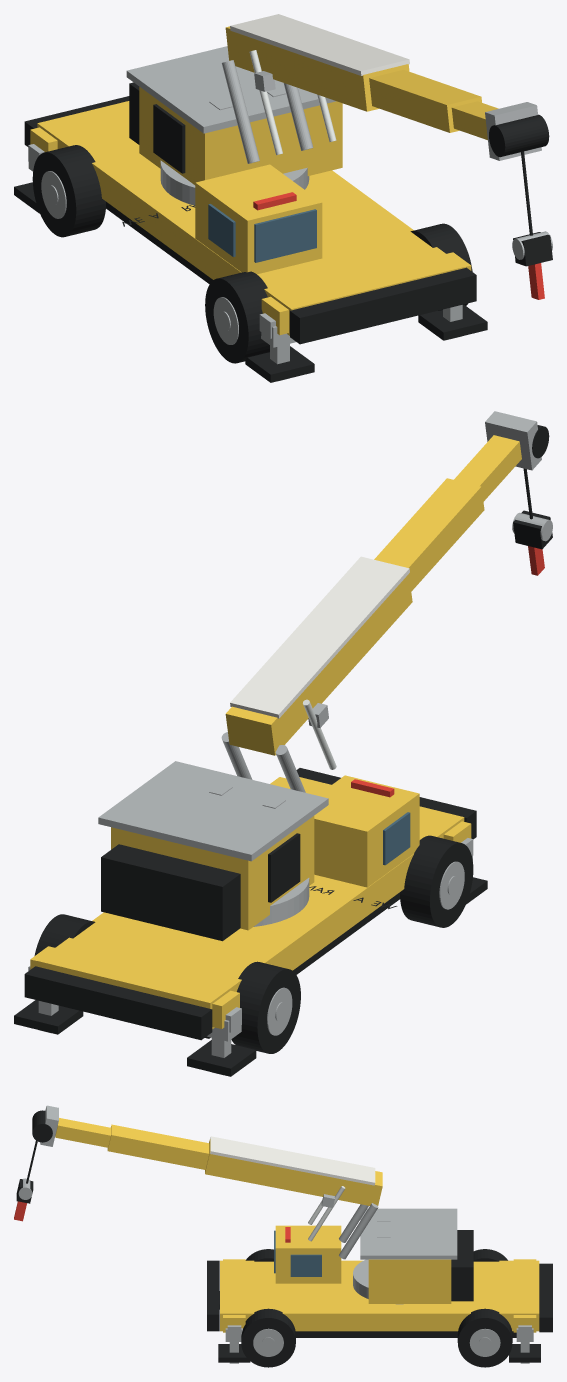
File: webar_crane_generated.glb
3 views of the same model, one above another, from view 1: azimuth 30°, elevation 25°; view 2: azimuth 150°, elevation 25°; view 3: azimuth 270°, elevation 25° (orthographic). The views are drawn at different scales.
Parts seen in each view (by area): view 1: Chassis_MainFrame, UpperHouse_Main, DriverCab_Body, MachineryDeck_Railing, Front_Bumper, BoomBase_Section, BoomBase_TopStripe, RearWheel_RL_Tire, Boom_SecondStage, FrontWheel_FL_Tire, DriverCab_Windshield, Boom_TipSheave (+20 smaller); view 2: Chassis_MainFrame, MachineryDeck_Railing, Counterweight_Block, BoomBase_TopStripe, DriverCab_Body, Rear_Counter_Bumper, BoomBase_Section, Boom_SecondStage, UpperHouse_Main, FrontWheel_FL_Tire, RearWheel_RL_Tire, Boom_ThirdStage (+12 smaller); view 3: Chassis_MainFrame, MachineryDeck_Railing, BoomBase_Section, UpperHouse_Main, DriverCab_Body, BoomBase_TopStripe, Boom_SecondStage, RearWheel_RR_Tire, FrontWheel_FR_Tire, Counterweight_Block, Chassis_UnderFrame, Boom_ThirdStage (+13 smaller).
Part boxes in pixels (<box>): Chassis_MainFrame: <box>37,101,464,335</box>; UpperHouse_Main: <box>139,87,342,185</box>; DriverCab_Body: <box>195,164,322,274</box>; MachineryDeck_Railing: <box>126,46,335,133</box>; Front_Bumper: <box>290,267,476,344</box>; BoomBase_Section: <box>225,26,409,111</box>; BoomBase_TopStripe: <box>230,14,409,75</box>; RearWheel_RL_Tire: <box>32,145,105,237</box>; Boom_SecondStage: <box>369,69,481,132</box>; FrontWheel_FL_Tire: <box>205,271,269,363</box>; DriverCab_Windshield: <box>254,209,316,262</box>; Boom_TipSheave: <box>489,114,549,157</box>; Chassis_MainFrame: <box>37,777,464,1028</box>; MachineryDeck_Railing: <box>98,761,328,861</box>; Counterweight_Block: <box>101,844,240,941</box>; BoomBase_TopStripe: <box>230,556,409,718</box>; DriverCab_Body: <box>314,775,419,887</box>; Rear_Counter_Bumper: <box>24,966,212,1040</box>; BoomBase_Section: <box>225,574,412,755</box>; Boom_SecondStage: <box>374,478,484,591</box>; UpperHouse_Main: <box>111,816,314,930</box>; FrontWheel_FL_Tire: <box>400,835,473,927</box>; RearWheel_RL_Tire: <box>231,961,300,1053</box>; Boom_ThirdStage: <box>454,435,521,501</box>; Chassis_MainFrame: <box>220,1260,539,1331</box>; MachineryDeck_Railing: <box>360,1208,457,1259</box>; BoomBase_Section: <box>205,1139,382,1205</box>; UpperHouse_Main: <box>368,1259,451,1303</box>; DriverCab_Body: <box>275,1225,341,1283</box>; BoomBase_TopStripe: <box>210,1136,375,1185</box>; Boom_SecondStage: <box>107,1124,209,1169</box>; RearWheel_RR_Tire: <box>457,1308,512,1367</box>; FrontWheel_FR_Tire: <box>241,1308,295,1367</box>; Counterweight_Block: <box>451,1230,473,1301</box>; Chassis_UnderFrame: <box>295,1331,516,1337</box>; Boom_ThirdStage: <box>55,1118,110,1147</box>.
Size of the model in its own units: 3.2 by 4.32 by 9.46.
